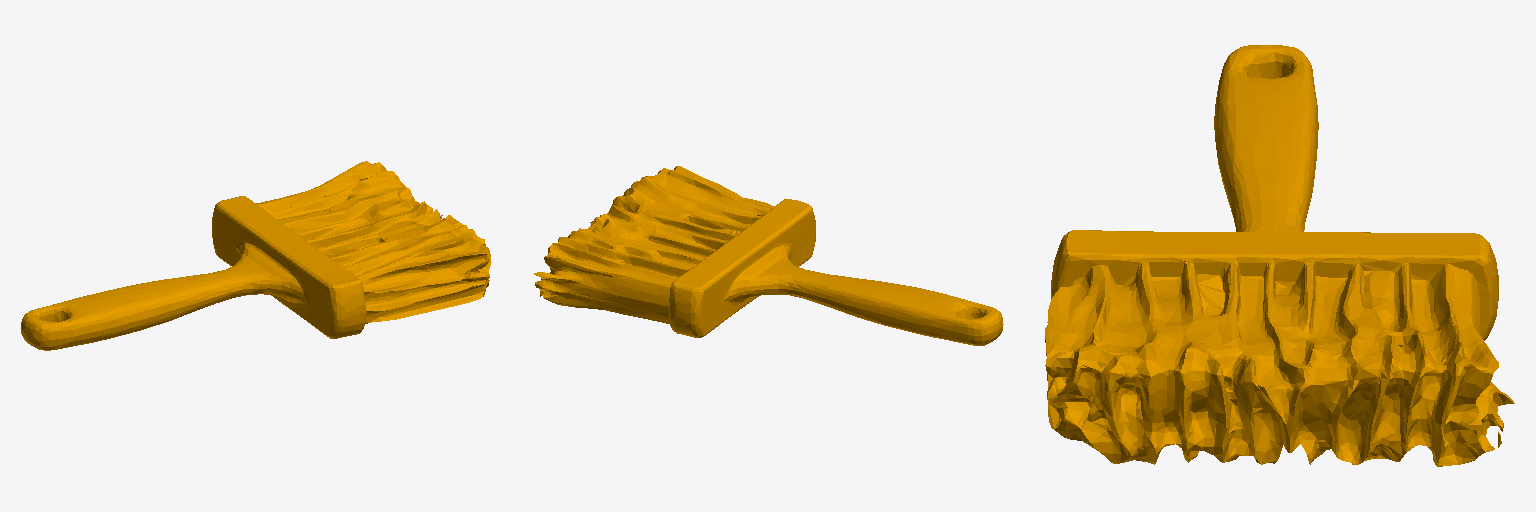
robot.urdf — anvil_brush:
<?xml version="1.0"?>
<robot name="anvil_brush">
  <link name="anvil_brush">
    <visual>
      <origin xyz="0 0 0" rpy="0 0 0"/>
      <geometry>
        <mesh filename="anvil_brush.obj" scale="1 1 1"/>
      </geometry>
    </visual>
    <collision>
      <origin xyz="0 0 0" rpy="0 0 0"/>
      <geometry>
        <mesh filename="anvil_brush.obj" scale="1 1 1"/>
      </geometry>
    </collision>
    <inertial>
      <!-- From real world measurement, this is about 289.5g, this density gets us there, and CoM is at (0.1, 0, 0) wrt origin -->
      <density value="325.0"/>
      <!-- <origin xyz="0.1 0 0" rpy="0 0 0"/> -->
      <origin xyz="0.06 0 0" rpy="0 0 0"/>
    </inertial>
  </link>
</robot>

--- What the picture shows (computed from the rendered views, not written in the file) ---
3 views of the same robot in one strip: view 1: azimuth 30°, elevation 25°; view 2: azimuth 150°, elevation 25°; view 3: azimuth 270°, elevation 25° (orthographic).
Model anvil_brush with 1 links and 0 joints (none), rooted at anvil_brush, posed every joint at zero.
Links seen in each view (by area): view 1: anvil_brush; view 2: anvil_brush; view 3: anvil_brush.
Boxes of the visible links, box(x1,y1,x2,y2) form: anvil_brush: box(21, 161, 491, 350); anvil_brush: box(534, 166, 1003, 345); anvil_brush: box(1045, 45, 1514, 466).
Size in the robot's own frame: 0.2997 by 0.1658 by 0.0468 metres.
Meshes: 1 distinct files referenced, 1 mesh visuals loaded (1 OBJ).
